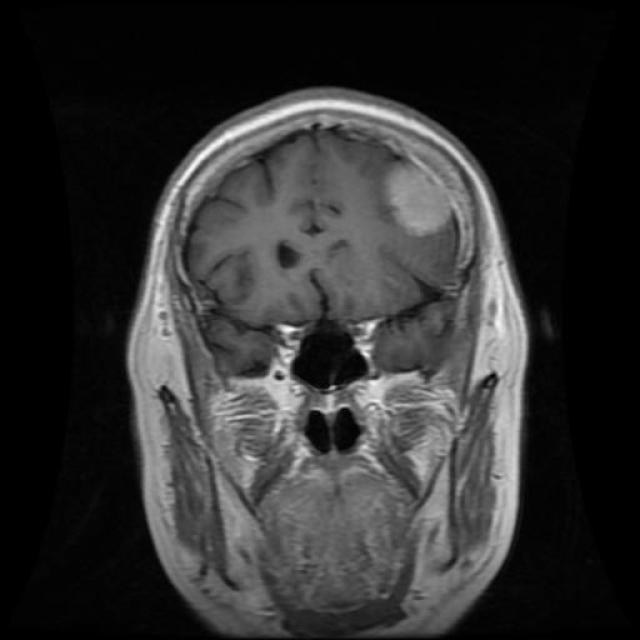meningioma: (388, 164, 445, 238)
